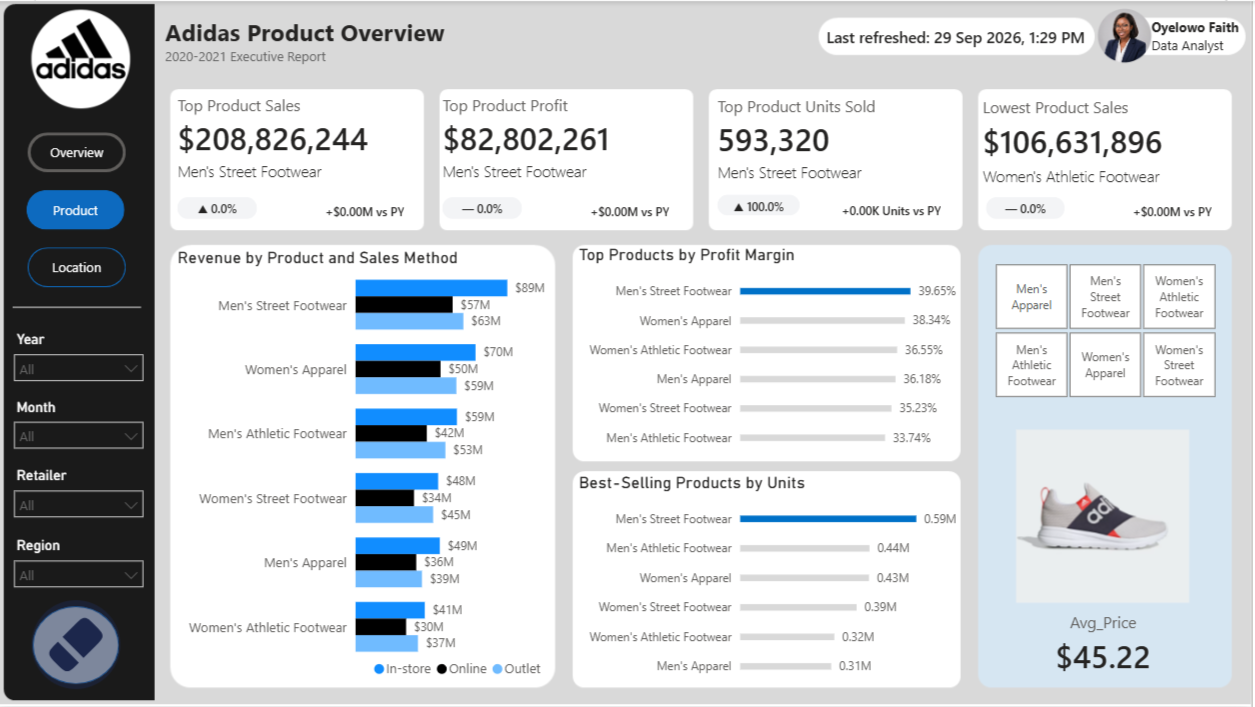

The dashboard page shown, as its layout file describes it:
{"tool":"powerbi","page":{"name":"Product","canvas":[1280,720],"ordinal":4},"visuals":[{"type":"image","box":[1116,6,70,57.9],"z":0,"group":"g5"},{"type":"cardVisual","fields":{"Data":["DAX Measures.Top Product Sales"]},"box":[178.6,91.7,259.4,130.2],"z":0,"group":"g1"},{"type":"group","id":"g1","title":"Group 1","box":[178.6,91.7,259.4,139.9],"z":0},{"type":"cardVisual","fields":{"Data":["DAX Measures.Top Product Profit"]},"box":[449,91.7,259.4,130.2],"z":0,"group":"g4"},{"type":"cardVisual","fields":{"Data":["DAX Measures.Top Product Units Sold"]},"box":[729.8,92.6,257.4,131.1],"z":0,"group":"g2"},{"type":"cardVisual","fields":{"Data":["DAX Measures.Lowest Product Sales"]},"box":[1000.3,93,258.8,137],"z":0,"group":"g3"},{"type":"textbox","box":[1173.9,12,103.8,47.1],"z":1000,"group":"g5"},{"type":"group","id":"g2","title":"Group 1","box":[729.6,92.6,257.6,139.6],"z":1000},{"type":"cardVisual","fields":{"Data":["DAX Measures.Top Product Units Sold Growth Badge"]},"box":[729.6,192.5,94.2,31.8],"z":1000,"group":"g2"},{"type":"cardVisual","fields":{"Data":["DAX Measures.Top Product Sales Growth Badge"]},"box":[178.6,194.8,91.1,32.6],"z":1000,"group":"g1"},{"type":"cardVisual","fields":{"Data":["DAX Measures.Top Product Profit Growth Badge"]},"box":[449,194.8,91.1,32.6],"z":1000,"group":"g4"},{"type":"cardVisual","fields":{"Data":["DAX Measures.Lowest Product Sales Growth Badge"]},"box":[1003.7,195.1,90.9,32.8],"z":1000,"group":"g3"},{"type":"group","id":"g3","title":"Group 1","box":[1000.3,93,259.7,139.2],"z":2000},{"type":"cardVisual","fields":{"Data":["DAX Measures.Top Product Units Sold Growth Label"]},"box":[855.5,193.4,129.9,38.7],"z":2000,"group":"g2"},{"type":"cardVisual","fields":{"Data":["DAX Measures.Top Product Sales Growth Label"]},"box":[329,194.8,106.2,36.9],"z":2000,"group":"g1"},{"type":"cardVisual","fields":{"Data":["DAX Measures.Top Product Profit Growth Label"]},"box":[599.4,194.8,106.2,36.9],"z":2000,"group":"g4"},{"type":"cardVisual","fields":{"Data":["DAX Measures.Lowest Product Sales Growth Label"]},"box":[1153.9,195.1,106.1,37.1],"z":2000,"group":"g3"},{"type":"group","id":"g4","title":"Group 1","box":[449,91.7,259.4,139.9],"z":3000},{"type":"clusteredBarChart","fields":{"Category":["Product.Product"],"Series":["Sales.Sales Method"],"Y":["DAX Measures.Revenue"]},"box":[178.9,251.2,385.7,449.2],"z":4000},{"type":"clusteredBarChart","title":"Top Products by  Profit Margin","fields":{"Category":["Product.Product"],"Y":["DAX Measures.Margin %"]},"box":[588.7,248.7,395.9,218.2],"z":5000},{"type":"clusteredBarChart","title":"Best-Selling Products by Units","fields":{"Category":["Product.Product"],"Y":["DAX Measures.Total Units"]},"box":[588.7,480.9,395.9,219.5],"z":6000},{"type":"cardVisual","fields":{"Data":["DAX Measures.Avg_Price"]},"box":[1054.4,612.8,149.7,87.5],"z":8000},{"type":"slicer","fields":{"Values":["Date.Year"]},"box":[6.2,332.5,152.5,70],"z":9000},{"type":"slicer","fields":{"Values":["Date.Month"]},"box":[6.2,401.2,152.5,70],"z":10000},{"type":"slicer","fields":{"Values":["Sales.Retailer"]},"box":[6.2,471.2,152.5,70],"z":11000},{"type":"slicer","fields":{"Values":["Location.Region"]},"box":[6.2,542.5,152.5,70],"z":12000},{"type":"shape","box":[15.7,299.2,131.5,27.7],"z":13000},{"type":"image","box":[9.7,4.8,147.2,113.4],"z":14000},{"type":"textbox","box":[166.5,9.7,310.1,61.5],"z":15000},{"type":"slicer","fields":{"Values":["Product.Product"]},"box":[993.5,261.4,274.1,149.7],"z":15001},{"type":"simpleImageEBC4593F96F1425FB3D84C5BF02B5075","fields":{"imageURL":["Product.Image Url"]},"box":[1035.4,432.7,186.5,186.5],"z":15002},{"type":"shape","box":[36.2,617.5,88.2,79.5],"z":15003},{"type":"image","box":[26,598.7,108.5,117.1],"z":15004},{"type":"actionButton","box":[30.5,134.5,100.2,40.6],"z":15005},{"type":"actionButton","box":[29.2,192.9,100.2,40.6],"z":15006},{"type":"actionButton","box":[30.5,251.2,100.2,40.6],"z":15007},{"type":"cardVisual","fields":{"Data":["Last Refresh.Last Refreshed Label"]},"box":[840.9,9.7,275.1,50.7],"z":15008},{"type":"group","id":"g5","title":"Group 3","box":[1116,6,161.7,57.9],"z":15009}]}

Visuals, with their boxes on the page's 1280x720 design canvas (x1, y1, x2, y2). These are canvas units, not pixel positions in the 1255x707 screenshot, which may show the page scaled, cropped or inside an application window:
image: 1116/6/1186/64
cardVisual - DAX Measures.Top Product Sales: 179/92/438/222
"Group 1" group: 179/92/438/232
cardVisual - DAX Measures.Top Product Profit: 449/92/708/222
cardVisual - DAX Measures.Top Product Units Sold: 730/93/987/224
cardVisual - DAX Measures.Lowest Product Sales: 1000/93/1259/230
textbox: 1174/12/1278/59
"Group 1" group: 730/93/987/232
cardVisual - DAX Measures.Top Product Units Sold Growth Badge: 730/192/824/224
cardVisual - DAX Measures.Top Product Sales Growth Badge: 179/195/270/227
cardVisual - DAX Measures.Top Product Profit Growth Badge: 449/195/540/227
cardVisual - DAX Measures.Lowest Product Sales Growth Badge: 1004/195/1095/228
"Group 1" group: 1000/93/1260/232
cardVisual - DAX Measures.Top Product Units Sold Growth Label: 856/193/985/232
cardVisual - DAX Measures.Top Product Sales Growth Label: 329/195/435/232
cardVisual - DAX Measures.Top Product Profit Growth Label: 599/195/706/232
cardVisual - DAX Measures.Lowest Product Sales Growth Label: 1154/195/1260/232
"Group 1" group: 449/92/708/232
clusteredBarChart - Product.Product x Sales.Sales Method: 179/251/565/700
"Top Products by  Profit Margin" clusteredBarChart: 589/249/985/467
"Best-Selling Products by Units" clusteredBarChart: 589/481/985/700
cardVisual - DAX Measures.Avg_Price: 1054/613/1204/700
slicer - Date.Year: 6/332/159/402
slicer - Date.Month: 6/401/159/471
slicer - Sales.Retailer: 6/471/159/541
slicer - Location.Region: 6/542/159/612
shape: 16/299/147/327
image: 10/5/157/118
textbox: 166/10/477/71
slicer - Product.Product: 994/261/1268/411
simpleImageEBC4593F96F1425FB3D84C5BF02B5075 - Product.Image Url: 1035/433/1222/619
shape: 36/618/124/697
image: 26/599/134/716
actionButton: 30/134/131/175
actionButton: 29/193/129/234
actionButton: 30/251/131/292
cardVisual - Last Refresh.Last Refreshed Label: 841/10/1116/60
"Group 3" group: 1116/6/1278/64
